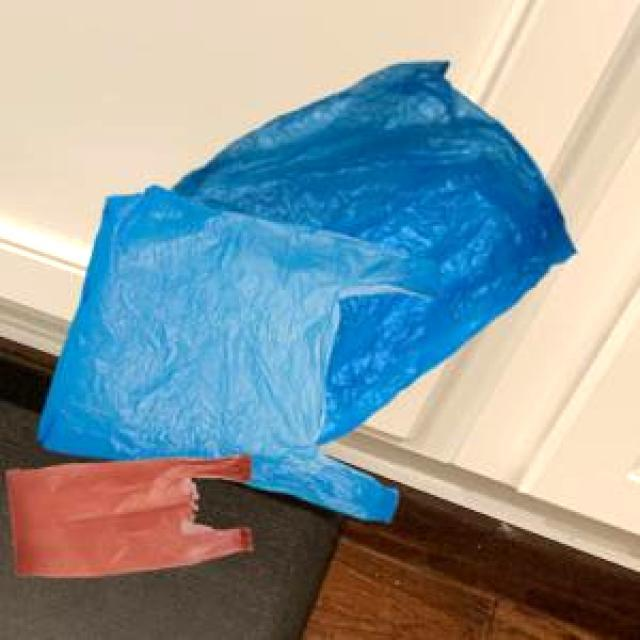Plastic_Bag: (167, 59, 573, 442), (33, 182, 436, 520), (4, 451, 250, 573)
